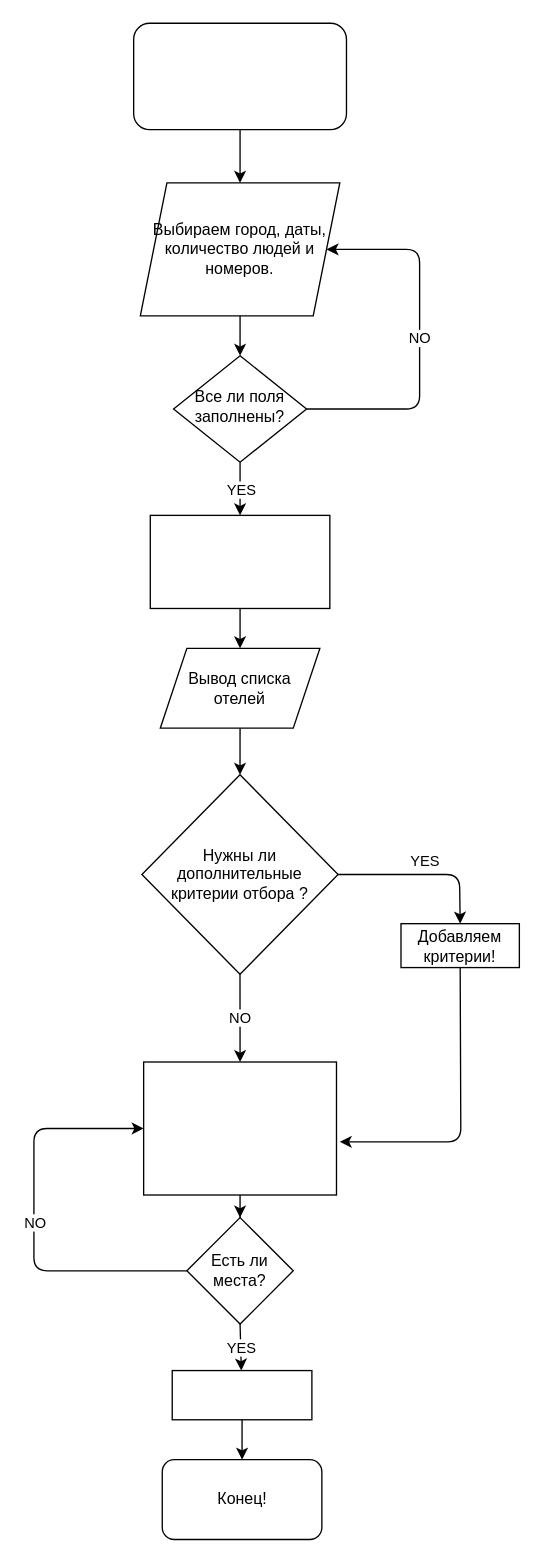
Image size: 543x1563. Some labels were removed from this diagram. Here are the shapes that lost their labels. From the top down, the centre of each, then its label:
[239,76]: Начало
[239,561]: кликаем "Проверить цены"
[239,1128]: Выбираем понравившийся отель. Жмём "Проверить наличие мест"
[241,1394]: Бронируем номер.
